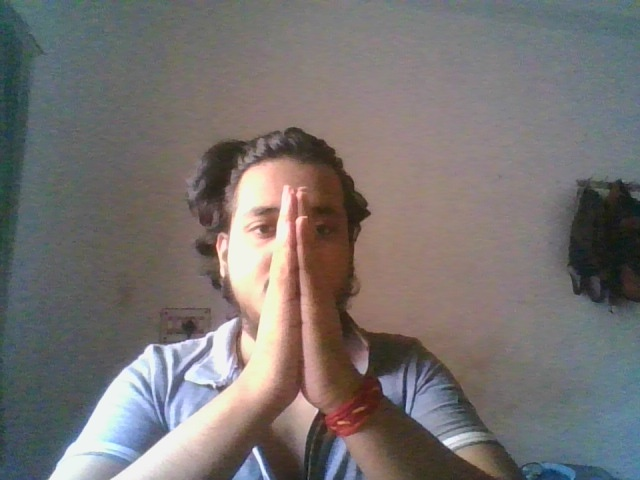ThankYou: (263, 183, 337, 410)
